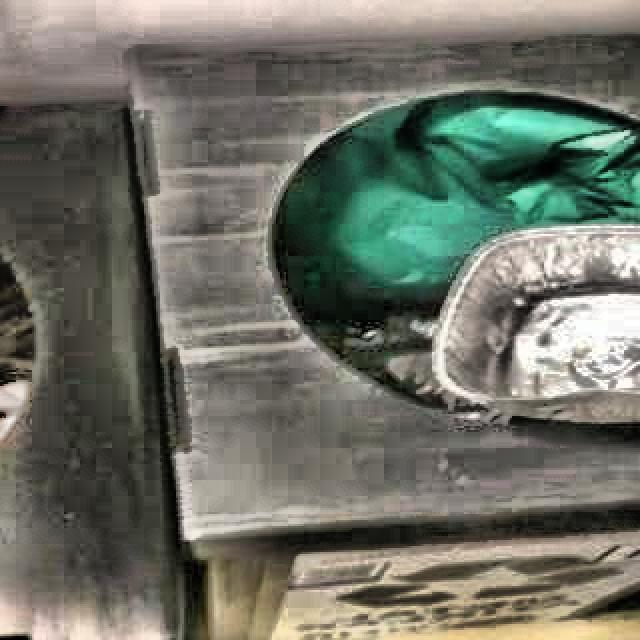metal: (437, 226, 640, 423)
